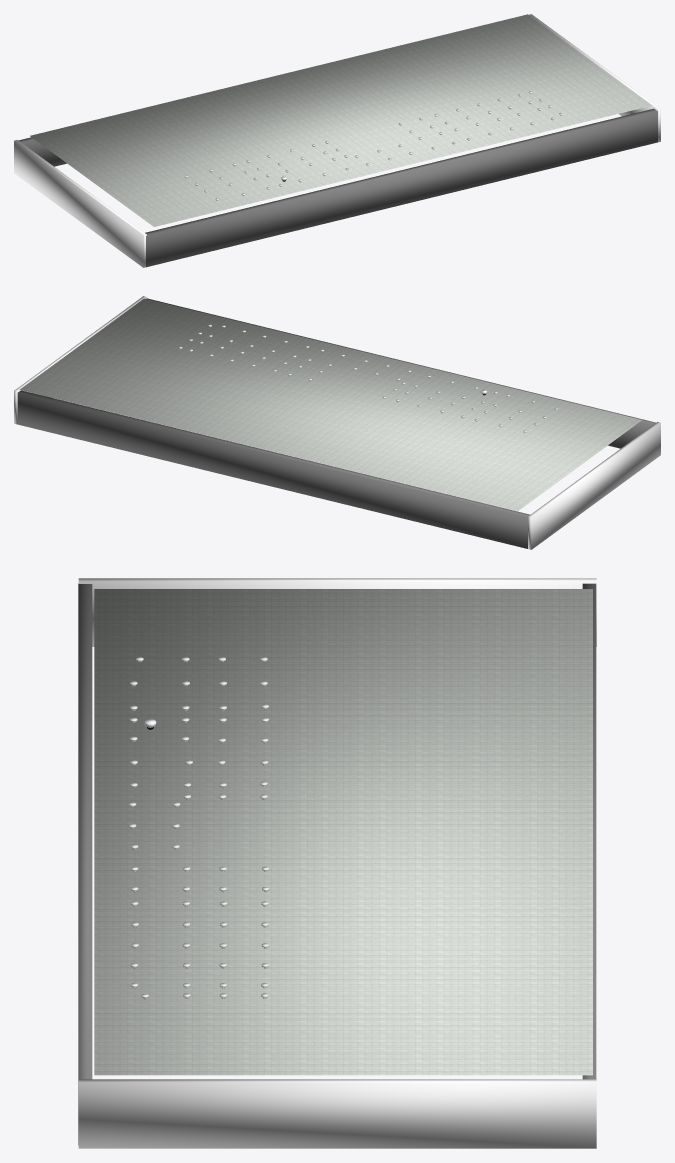
File: L40_3f_mini.gltf
3 views of the same model, one above another, from view 1: azimuth 30°, elevation 25°; view 2: azimuth 150°, elevation 25°; view 3: azimuth 270°, elevation 25° (orthographic). The views are drawn at different scales.
Parts seen in each view (by area): view 1: L40_dimian_43f, waiguan_43f_2, waiguan_43f, waiguan_43f_3, waiguan_43f_1; view 2: L40_dimian_43f, waiguan_43f_1, waiguan_43f, waiguan_43f_2, waiguan_43f_3; view 3: L40_dimian_43f, waiguan_43f_3, waiguan_43f_2, waiguan_43f, waiguan_43f_1.
Part boxes in pixels (x1,y1,x2,y2): L40_dimian_43f: [30, 14, 651, 226]; waiguan_43f_2: [145, 108, 657, 267]; waiguan_43f: [14, 140, 146, 267]; waiguan_43f_3: [529, 14, 660, 142]; waiguan_43f_1: [18, 137, 66, 166]; L40_dimian_43f: [19, 298, 641, 511]; waiguan_43f_1: [17, 390, 529, 548]; waiguan_43f: [528, 422, 660, 549]; waiguan_43f_2: [146, 298, 655, 448]; waiguan_43f_3: [14, 296, 146, 424]; L40_dimian_43f: [94, 589, 592, 1075]; waiguan_43f_3: [78, 1079, 596, 1148]; waiguan_43f_2: [78, 583, 92, 1145]; waiguan_43f: [78, 578, 596, 646]; waiguan_43f_1: [582, 583, 596, 1079].
Bounding box in the file's own units: 245 × 17.36 × 106.
Materials: 6 (2 with a texture image).
